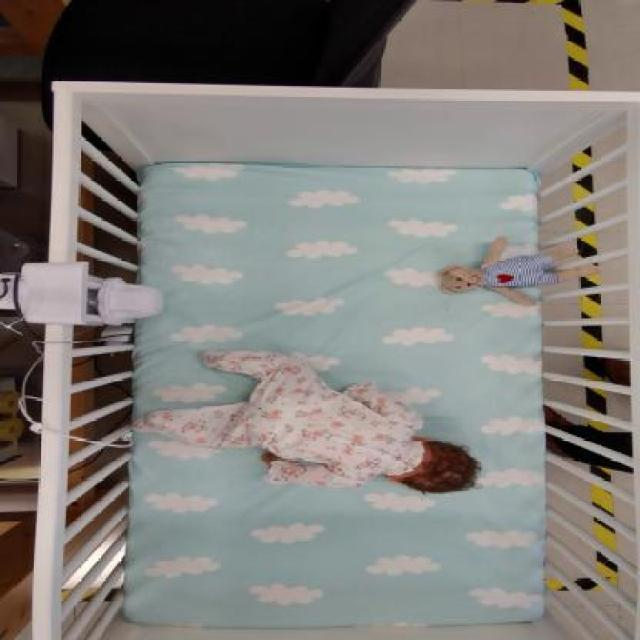baby: (127, 351, 483, 492)
